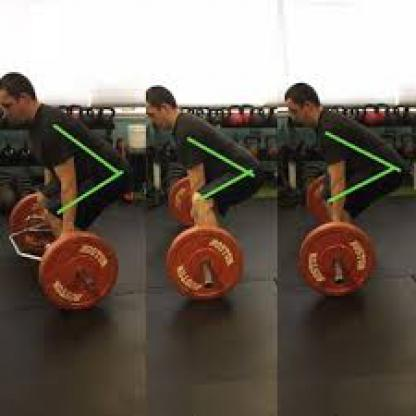Barbell: (30, 223, 126, 316), (158, 222, 248, 310), (295, 220, 381, 301)
